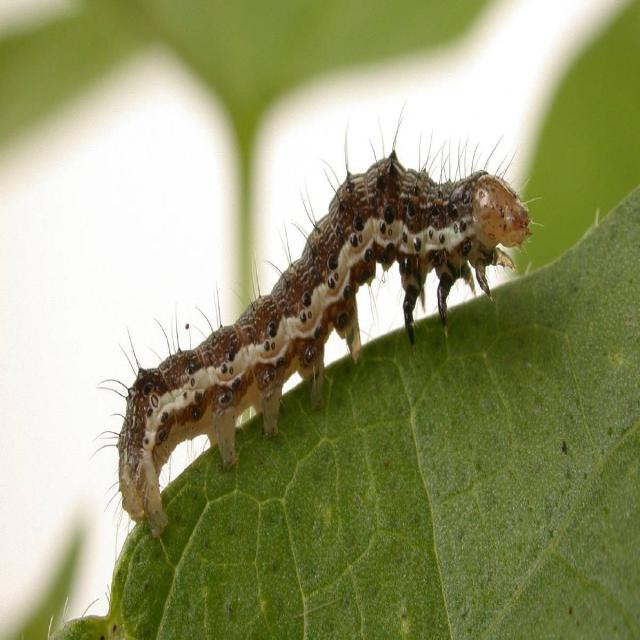Corn-earworm: (112, 141, 533, 543)
